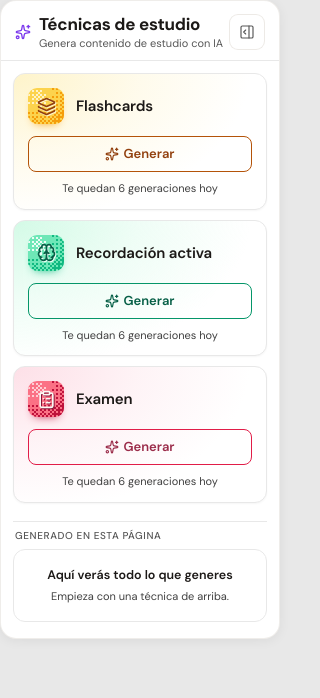
Test: TechniquesPanel › flashcards (real data) › maps AI_GENERATION_FAILED to its Spanish message
This screenshot has width=320, height=698.
Click the button with test id "generate-flashcards" at (140, 154), box top-left (28, 136), bottom-right (252, 172)
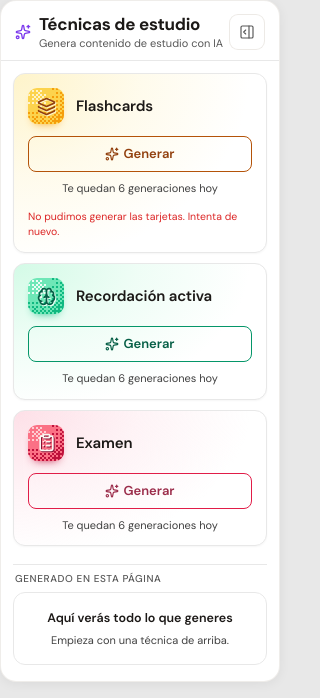
Expected: the message with test id "generation-error" reads "No pudimos generar las tarjetas. Intenta de nuevo.", top-left (28, 210), bottom-right (237, 238)
